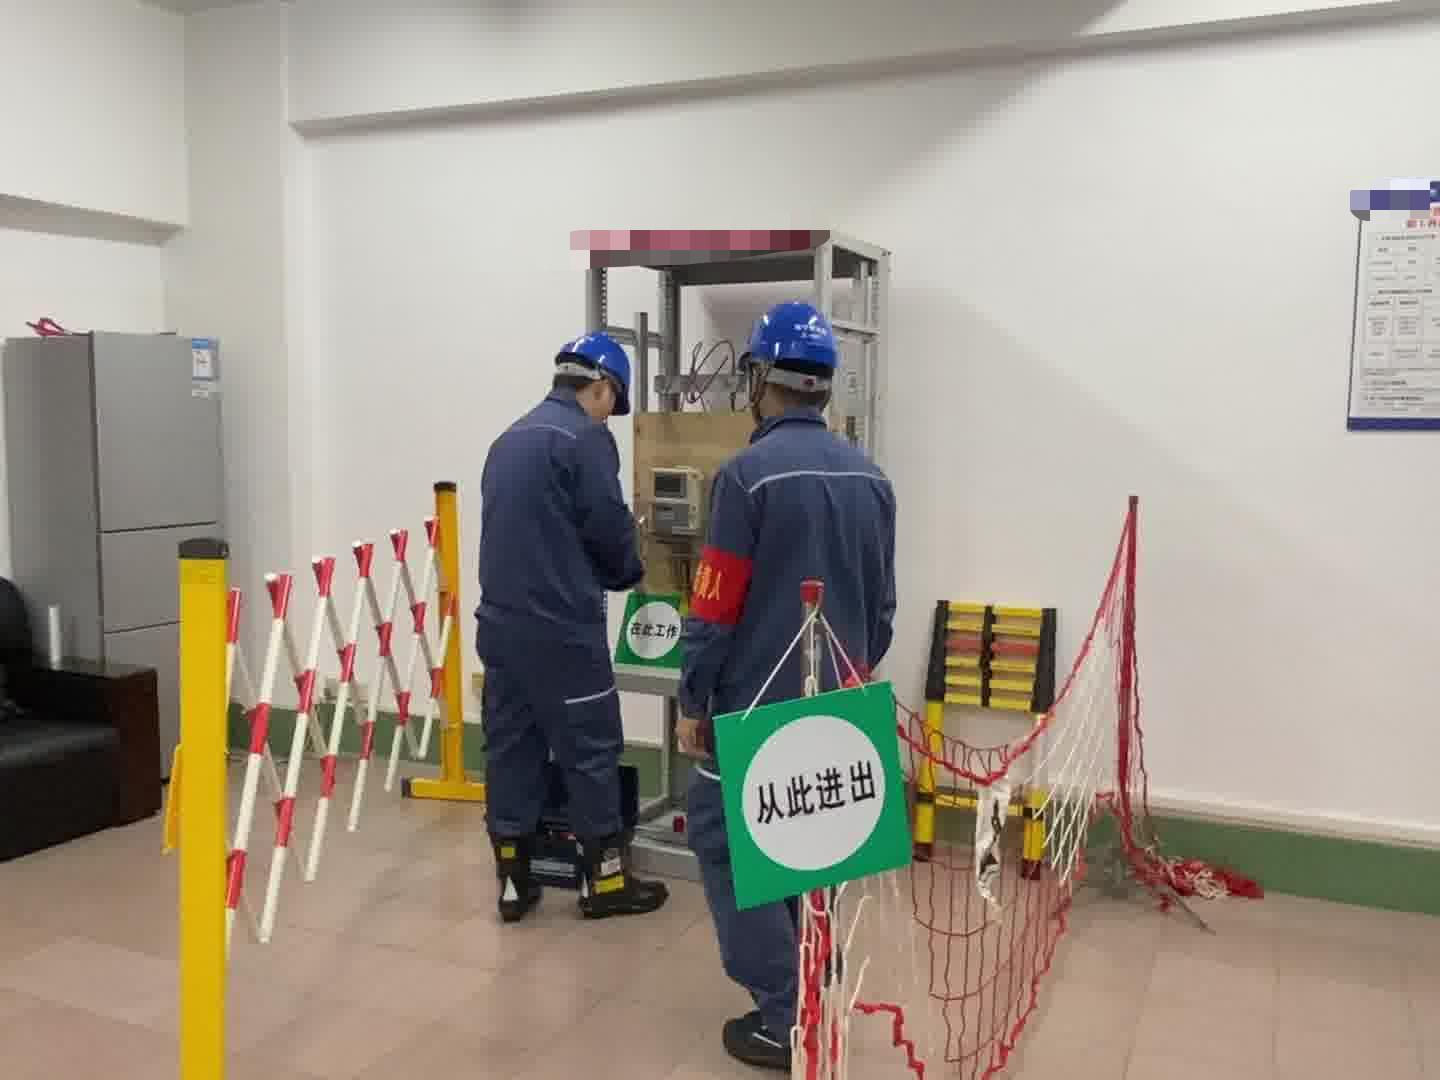halt: (740, 302, 845, 417), (554, 335, 639, 421)
inear: (743, 366, 777, 417)
noear: (588, 376, 618, 415)
